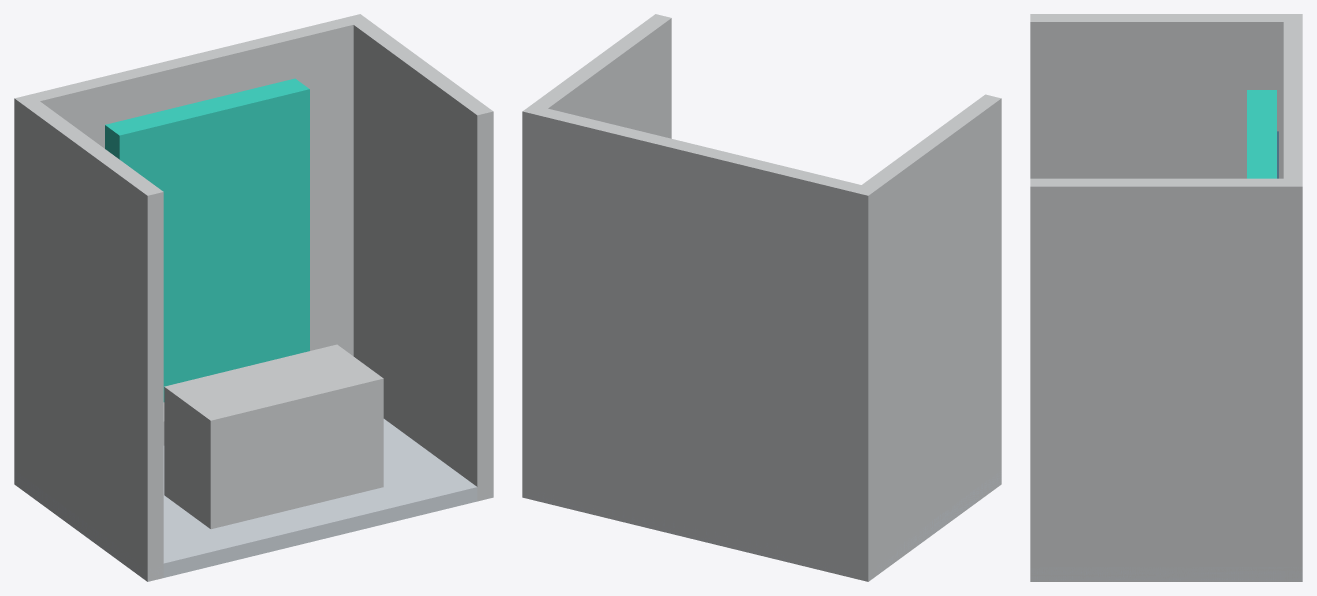
3 views of the same model, side by side, from view 1: azimuth 30°, elevation 25°; view 2: azimuth 150°, elevation 25°; view 3: azimuth 270°, elevation 25° (orthographic). The views are drawn at different scales.
Parts seen in each view (by area): view 1: Exhibition Booth Concept; view 2: Exhibition Booth Concept; view 3: Exhibition Booth Concept.
Boxes of the visible parts, x1,y1,x2,y2 form: Exhibition Booth Concept: (14, 14, 493, 581); Exhibition Booth Concept: (522, 14, 1001, 581); Exhibition Booth Concept: (1030, 14, 1302, 581).
Bounding box in the file's own units: 3 × 3.2 × 2.
